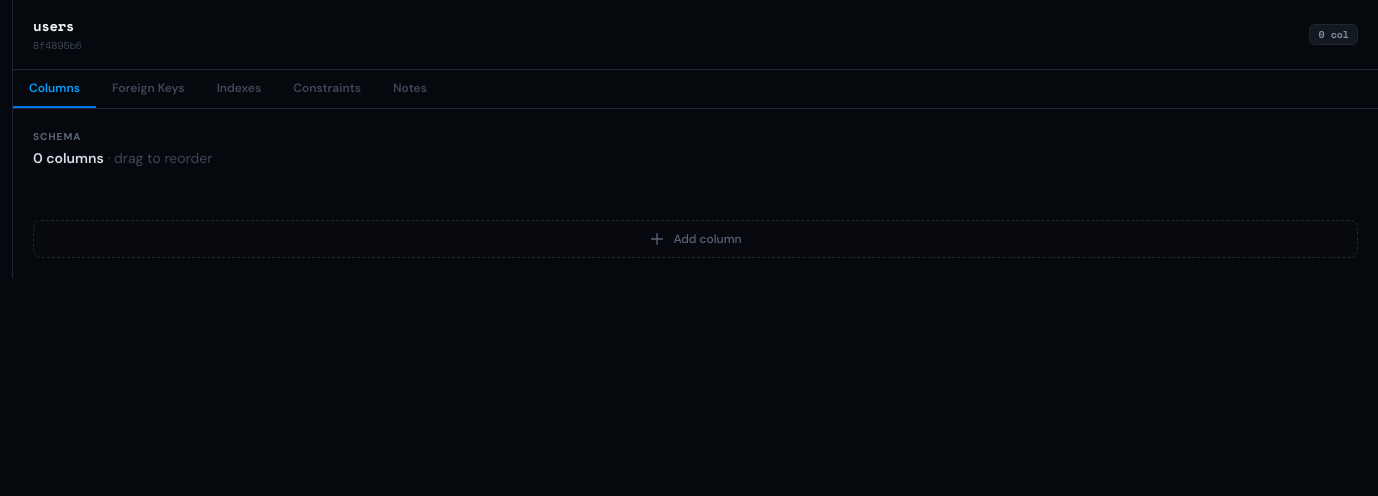
Test: DetailPanel.vue › switches tabs on click
Click the button "Notes".
click(410, 89)  # box x1=377 y1=70 x2=443 y2=108
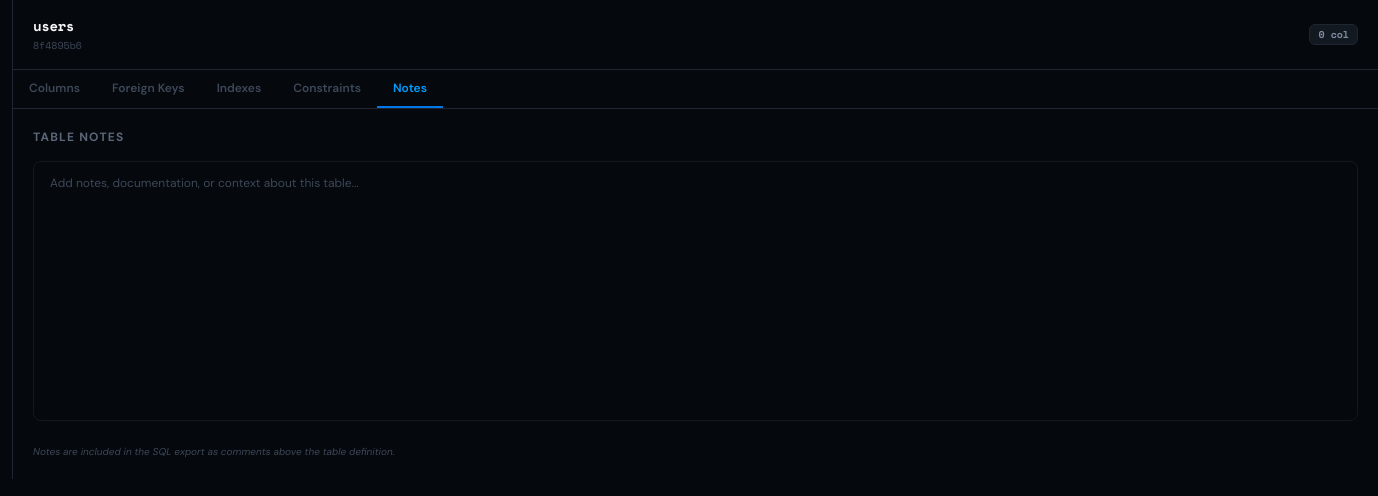
expect the text "Table Notes" is shown: met, box x1=33 y1=129 x2=124 y2=145
